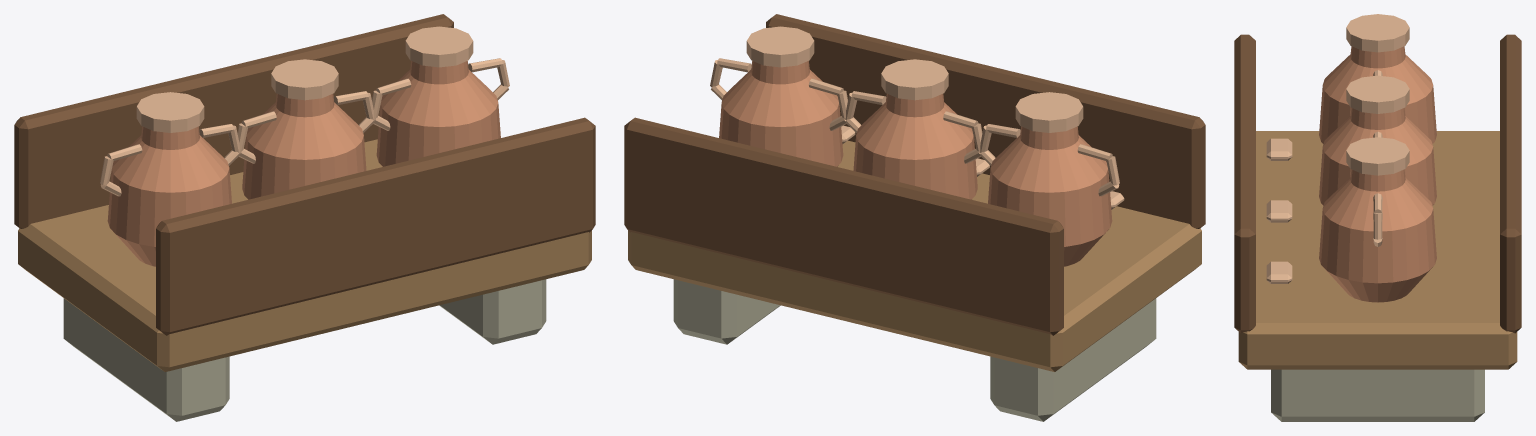
3 renders of one model, left to right at view 1: azimuth 30°, elevation 25°; view 2: azimuth 150°, elevation 25°; view 3: azimuth 270°, elevation 25°, orthographic. The views are drawn at different scales.
Parts seen in each view (by area): view 1: GF-023 Raised sealed seed jar store batched; view 2: GF-023 Raised sealed seed jar store batched; view 3: GF-023 Raised sealed seed jar store batched.
Part boxes in pixels (<box>): GF-023 Raised sealed seed jar store batched: <box>14,14,595,421</box>; GF-023 Raised sealed seed jar store batched: <box>624,14,1205,421</box>; GF-023 Raised sealed seed jar store batched: <box>1234,14,1521,421</box>.
Size of the model in its own units: 1.1 by 0.645 by 0.67.
